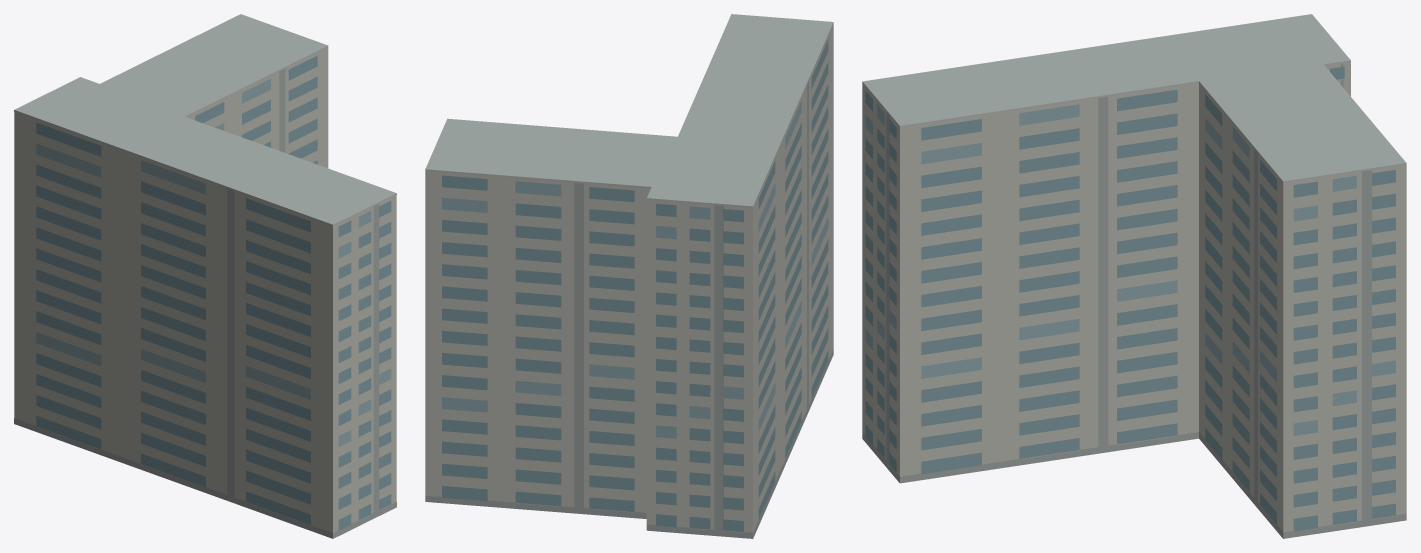
Rendered from residential-e37b8ba1-a53f-4203-aa19-17ed88f0c412.glb.
The picture shows the model from 3 angles, left to right: view 1: azimuth 30°, elevation 25°; view 2: azimuth 150°, elevation 25°; view 3: azimuth 270°, elevation 25°; orthographic projection. The views are drawn at different scales.
Visible parts, largest first — view 1: residential-e37b8ba1-a53f-4203-aa19-17ed88f0c412.tmp; view 2: residential-e37b8ba1-a53f-4203-aa19-17ed88f0c412.tmp; view 3: residential-e37b8ba1-a53f-4203-aa19-17ed88f0c412.tmp.
Part boxes in pixels (x1=…): residential-e37b8ba1-a53f-4203-aa19-17ed88f0c412.tmp: x1=14, y1=14, x2=396, y2=538; residential-e37b8ba1-a53f-4203-aa19-17ed88f0c412.tmp: x1=425, y1=14, x2=833, y2=538; residential-e37b8ba1-a53f-4203-aa19-17ed88f0c412.tmp: x1=862, y1=14, x2=1406, y2=538.
Size of the model in its own units: 44.2 by 44 by 60.69.
